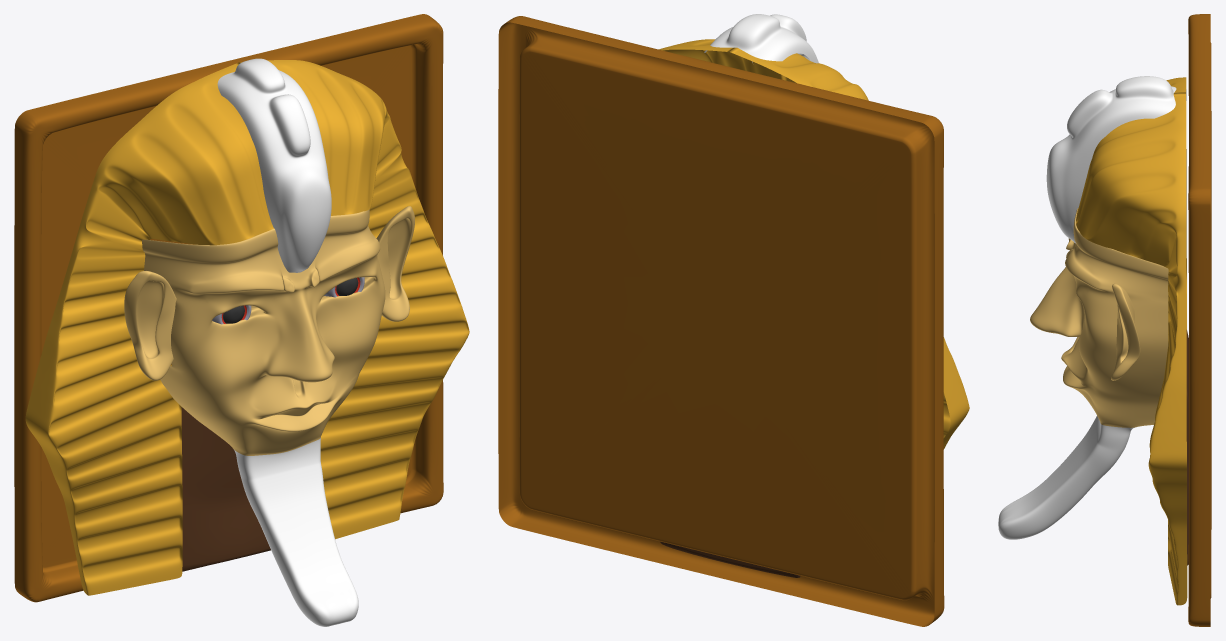
The model's file is Sphinx.glb.
The picture shows the model from 3 angles, left to right: view 1: azimuth 30°, elevation 25°; view 2: azimuth 150°, elevation 25°; view 3: azimuth 270°, elevation 25°; orthographic projection. The views are drawn at different scales.
Visible parts, largest first — view 1: Plane.010; view 2: Plane.010; view 3: Plane.010.
Part boxes in pixels (left/top/right/bottom): Plane.010: left=14, top=14, right=469, bottom=626; Plane.010: left=498, top=14, right=969, bottom=626; Plane.010: left=998, top=14, right=1211, bottom=626.
Size of the model in its own units: 3.76 by 4.31 by 1.81.
